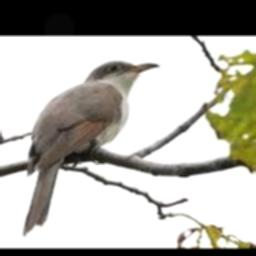Cuckoo: (23, 61, 160, 235)
